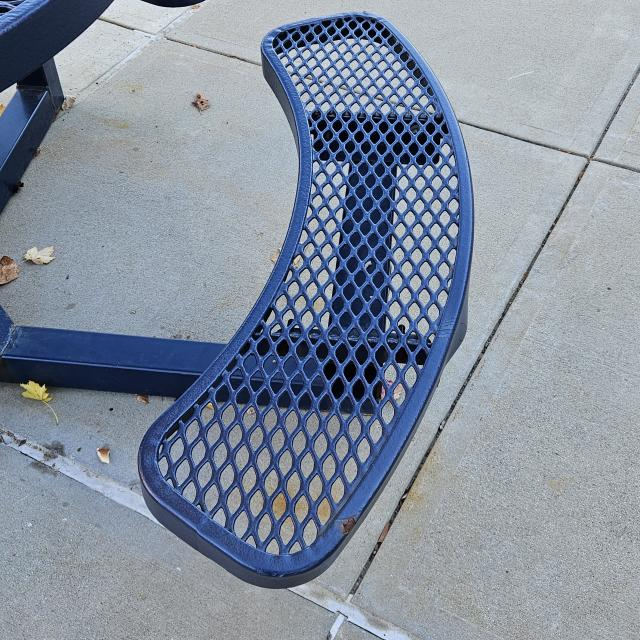Filiform Corrosion: (332, 511, 361, 542)
